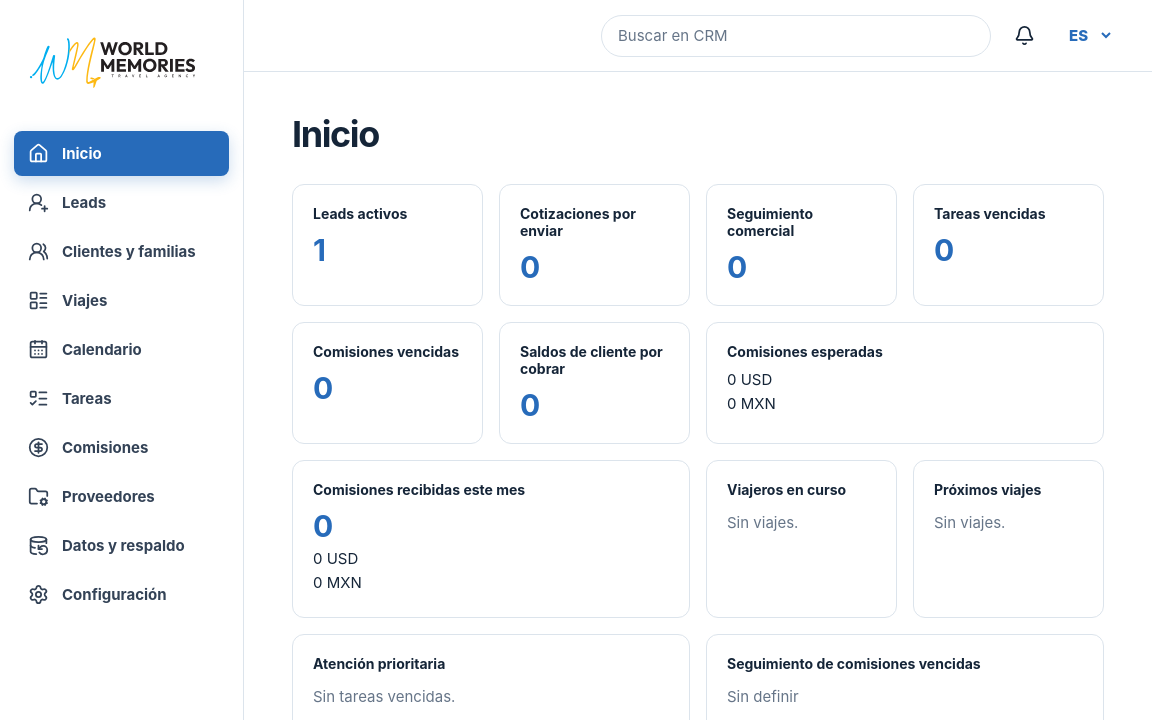
Scenario: application shell › opens a Lead in the focused workspace while preserving primary navigation
The image size is (1152, 720).
What coordinates should you click on to do the following:
click the button "Leads"
I would click on:
 (122, 203)
Its box is x1=14 y1=180 x2=229 y2=225.
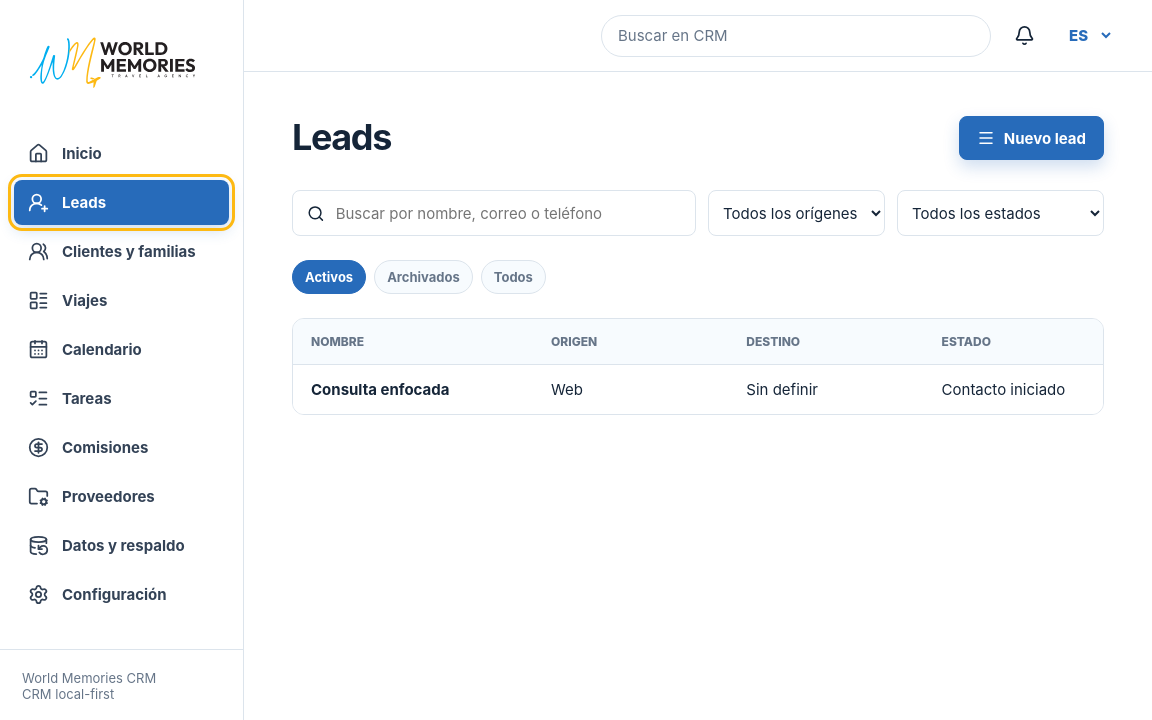
What coordinates should you click on to do the following:
click the button "Consulta enfocada Web Sin definir Contacto iniciado"
I would click on:
 (380, 390)
Its box is x1=293 y1=364 x2=1103 y2=414.
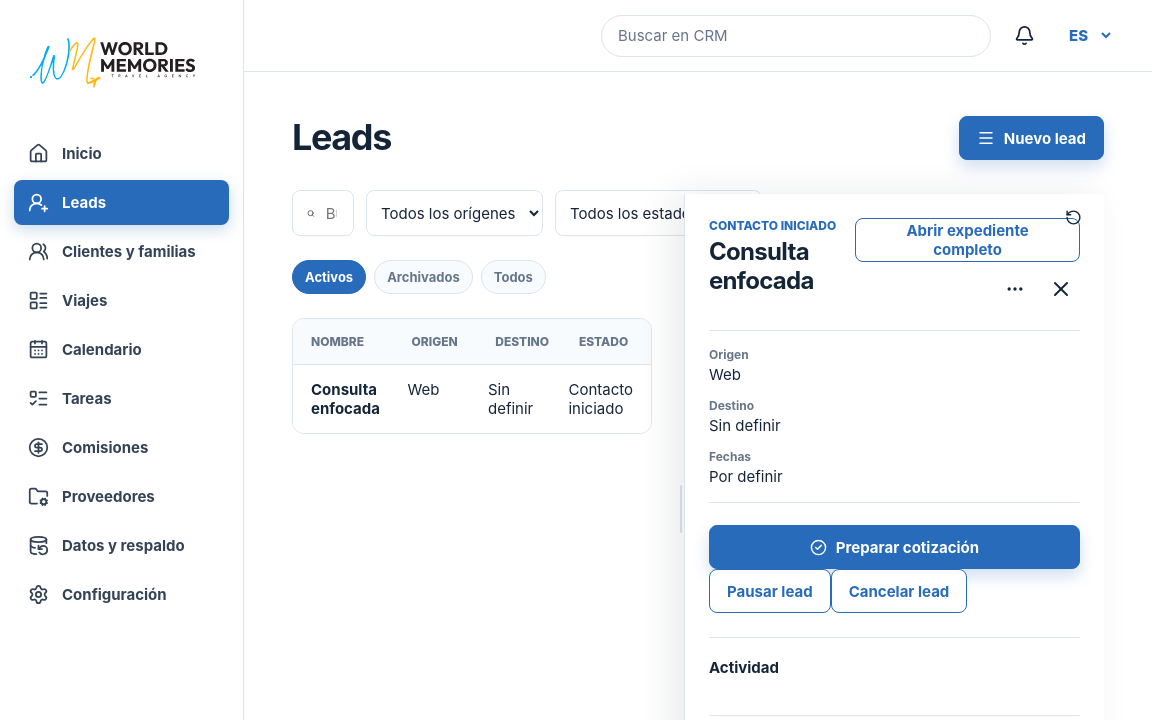
What coordinates should you click on to do the following:
click the button "Abrir expediente completo"
I would click on:
 (968, 240)
Its box is x1=855 y1=218 x2=1080 y2=262.
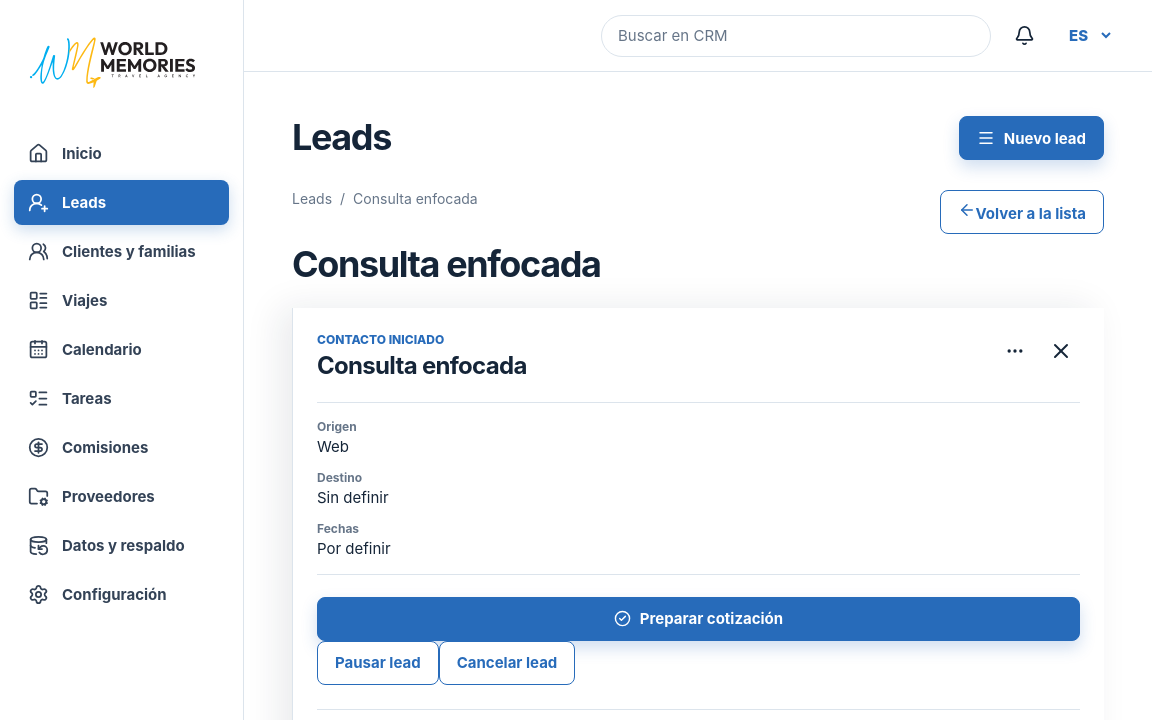
expect the navigation bar named "Navegación principal" is shown: met, box x1=14 y1=131 x2=229 y2=617
expect the navigation bar named "Ruta del expediente" is shown: met, box x1=292 y1=190 x2=478 y2=207
